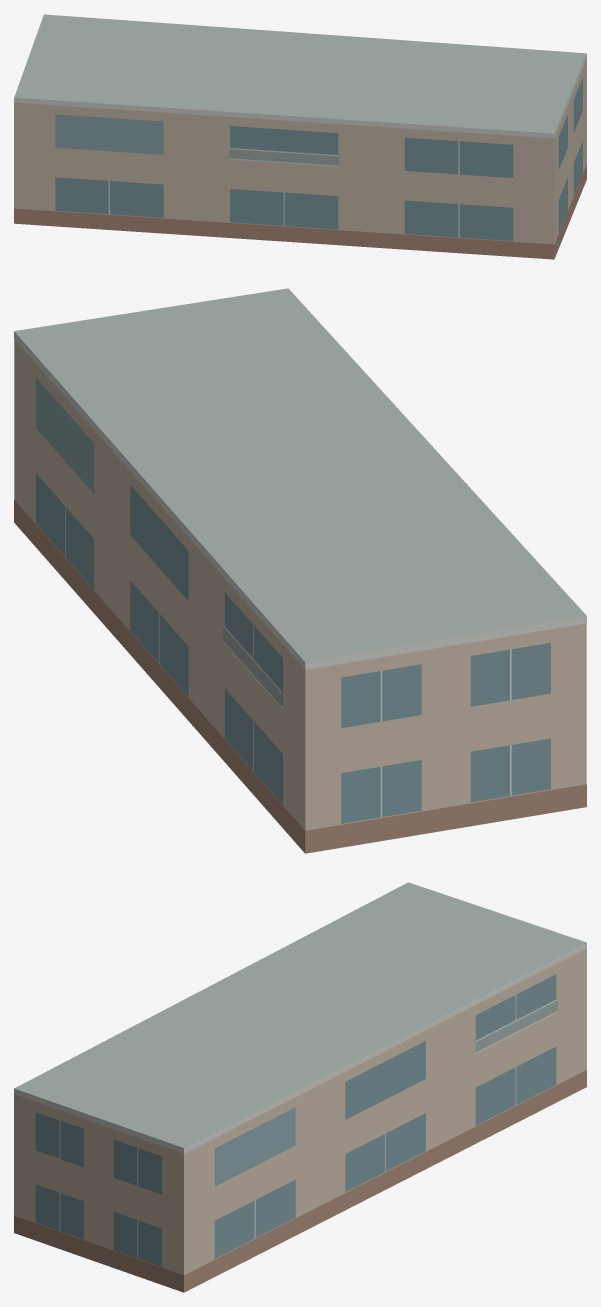
The model's file is survey-upis-32933682.glb.
3 views of the same model, one above another, from view 1: azimuth 30°, elevation 25°; view 2: azimuth 150°, elevation 25°; view 3: azimuth 270°, elevation 25° (orthographic). The views are drawn at different scales.
Parts seen in each view (by area): view 1: survey-upis-32933682.tmp; view 2: survey-upis-32933682.tmp; view 3: survey-upis-32933682.tmp.
Part boxes in pixels (x1,y1,x2,y2): survey-upis-32933682.tmp: (14, 14, 586, 259); survey-upis-32933682.tmp: (14, 288, 586, 853); survey-upis-32933682.tmp: (14, 882, 586, 1292).
Size of the model in its own units: 24.07 by 6.1 by 21.92.
